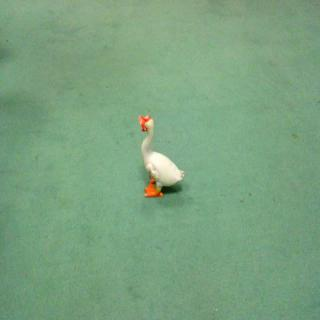duck: (133, 108, 187, 207)
